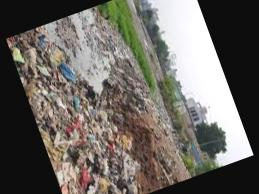Stagnant water: (59, 0, 173, 93)
Trash: (4, 20, 123, 194)
